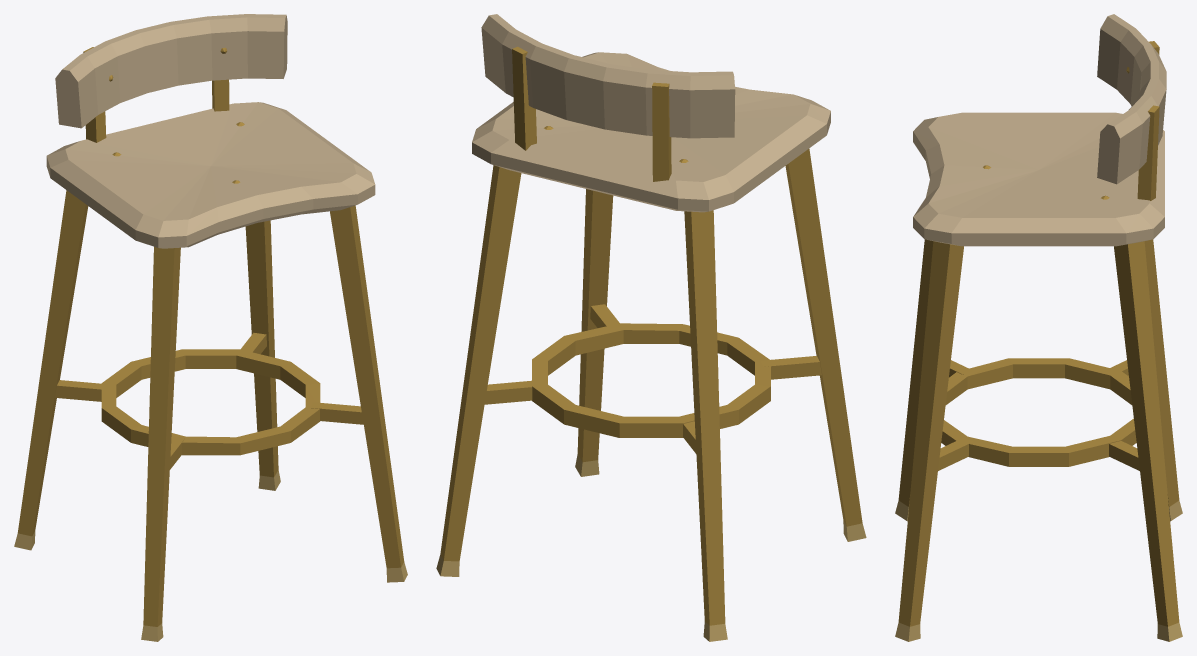
File: bar-stool-878f03.glb
3 renders of one model, left to right at view 1: azimuth 30°, elevation 25°; view 2: azimuth 150°, elevation 25°; view 3: azimuth 270°, elevation 25°, orthographic. The views are drawn at different scales.
Visible parts, largest first — view 1: bar-stool; view 2: bar-stool; view 3: bar-stool.
Part boxes in pixels (x1,y1,x2,y2): bar-stool: [14, 14, 407, 641]; bar-stool: [436, 14, 866, 641]; bar-stool: [895, 14, 1182, 641].
Bounding box in the file's own units: 0.4521 × 0.8 × 0.4114.
